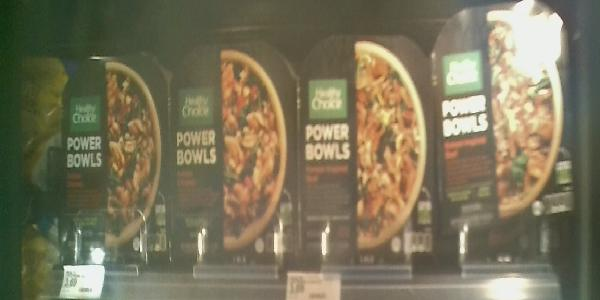pizza1: (426, 1, 581, 267), (297, 38, 439, 265), (170, 43, 297, 265), (44, 55, 171, 267)
